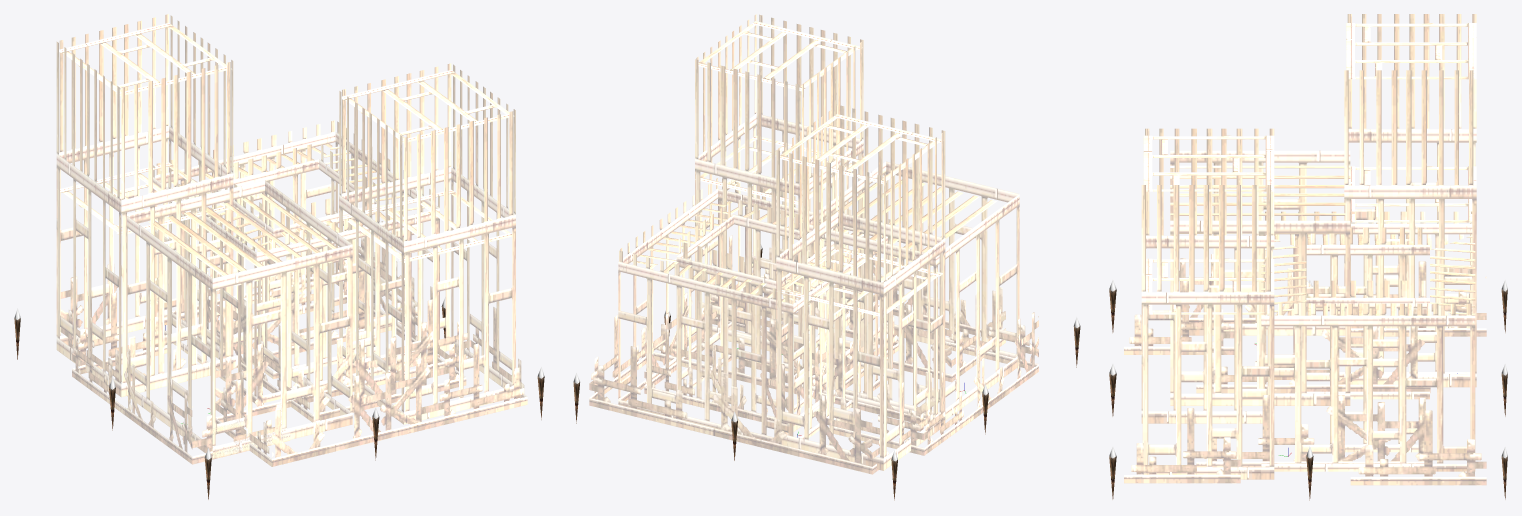
The model's file is construction-c.glb.
3 views of the same model, side by side, from view 1: azimuth 30°, elevation 25°; view 2: azimuth 150°, elevation 25°; view 3: azimuth 270°, elevation 25° (orthographic). The views are drawn at different scales.
Visible parts, largest first — view 1: building g fortressconstructionModel; view 2: building g fortressconstructionModel; view 3: building g fortressconstructionModel.
Boxes of the visible parts, x1,y1,x2,y2 form: building g fortressconstructionModel: [14, 14, 544, 499]; building g fortressconstructionModel: [573, 14, 1080, 500]; building g fortressconstructionModel: [1109, 14, 1507, 500].
Bounding box in the file's own units: 10.06 × 9.24 × 10.
Materials: 4 (2 with a texture image).
